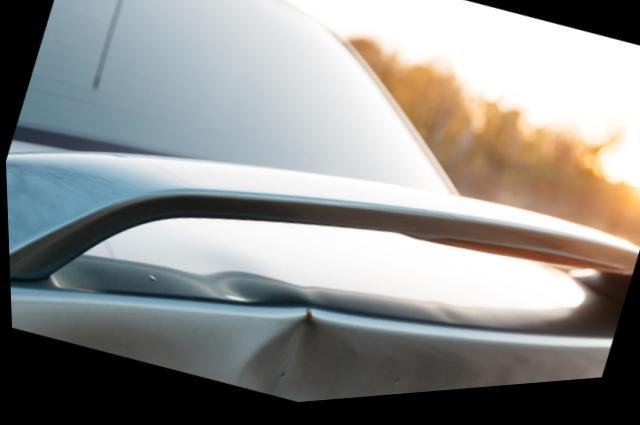dent: (233, 322, 368, 407)
